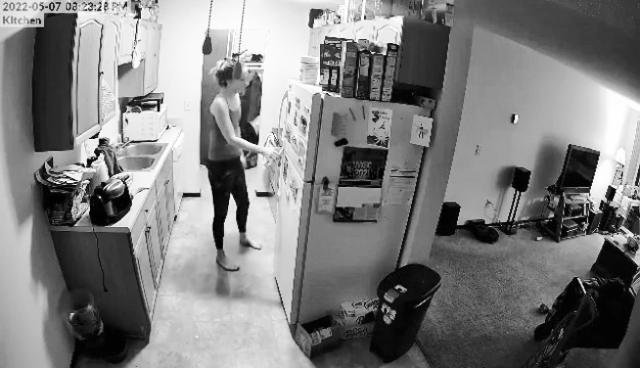berjalan: (198, 55, 280, 280)
